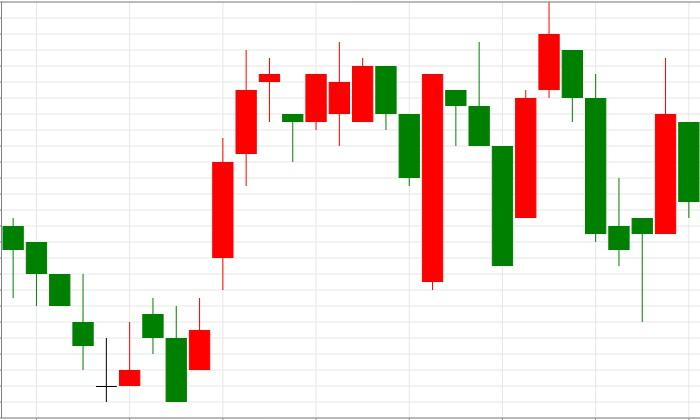bullish_engulfing_rise: (328, 42, 444, 290)
hammer_rise: (537, 2, 654, 322)
three_black_crows_fall: (398, 41, 514, 290)
three_white_soldiers_rise: (141, 50, 257, 401)
